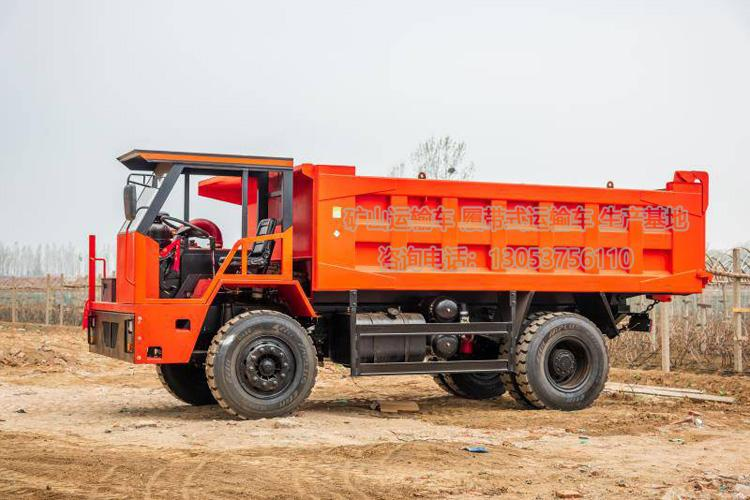truck: (80, 121, 713, 433)
